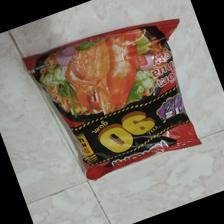Kokomi: (22, 19, 204, 181)
